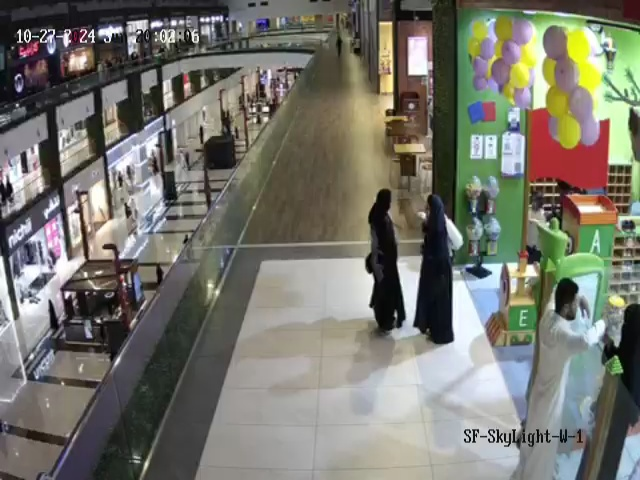female: (590, 300, 637, 476), (412, 193, 465, 345), (366, 188, 406, 338), (41, 295, 66, 336), (215, 105, 237, 137), (192, 121, 208, 146), (121, 202, 135, 230), (152, 261, 165, 287)
male: (509, 277, 609, 479), (176, 150, 186, 168)
